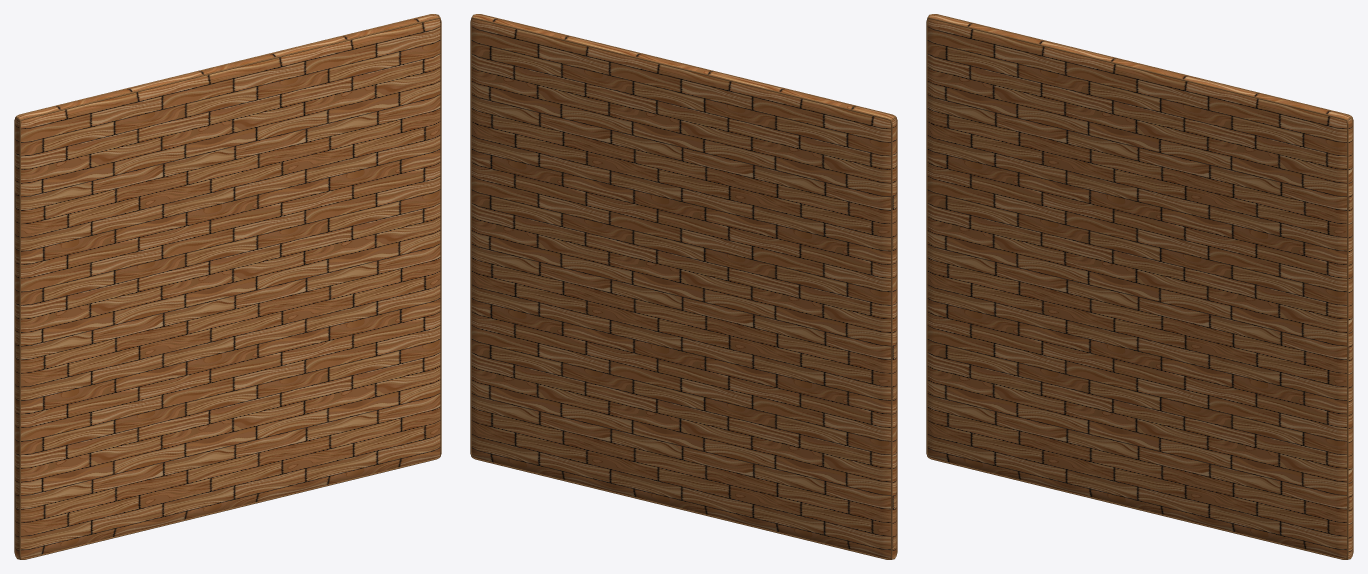
Rendered from SM_FoamWall_3x3.fbx.
3 views of the same model, side by side, from view 1: azimuth 30°, elevation 25°; view 2: azimuth 150°, elevation 25°; view 3: azimuth 330°, elevation 25° (orthographic).
Parts seen in each view (by area): view 1: SM_SoftFoam_Wall_10_3x3; view 2: SM_SoftFoam_Wall_10_3x3; view 3: SM_SoftFoam_Wall_10_3x3.
Boxes of the visible parts, left/top/right/bottom form: SM_SoftFoam_Wall_10_3x3: left=14, top=14, right=441, bottom=559; SM_SoftFoam_Wall_10_3x3: left=470, top=14, right=897, bottom=559; SM_SoftFoam_Wall_10_3x3: left=926, top=14, right=1353, bottom=559.
Bounding box in the file's own units: 284 × 284 × 10.
